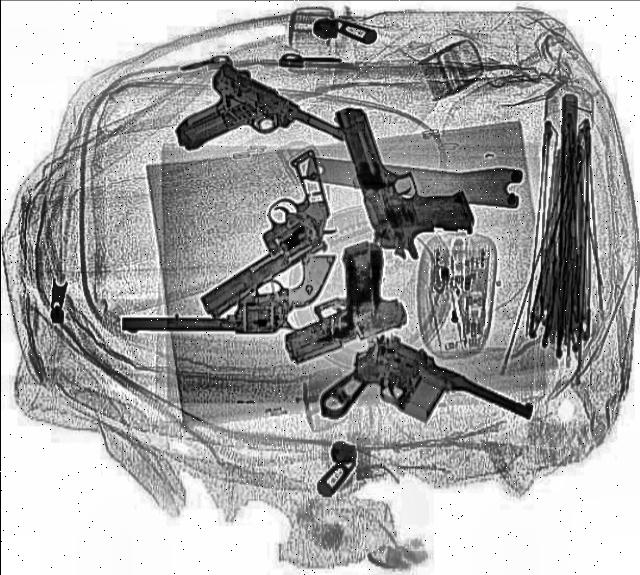Gun: (144, 146, 376, 324), (308, 326, 538, 488), (158, 60, 348, 208), (330, 92, 480, 270), (247, 239, 417, 368), (119, 256, 334, 336)
